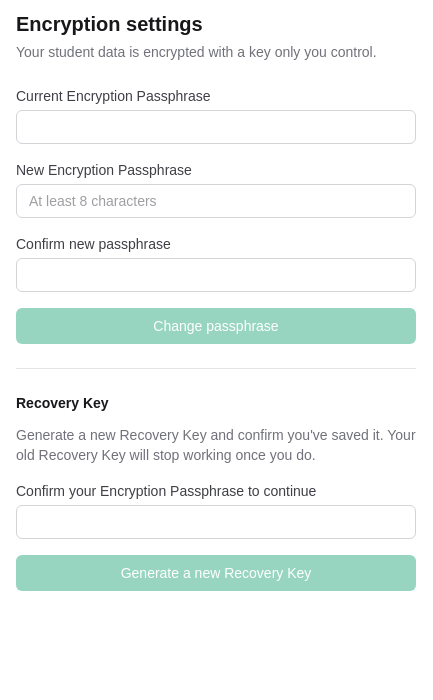
SettingsClient › a returning account (already set up) › shows an error and does not submit anything when the current passphrase is wrong
This screenshot has width=433, height=700.
In the password field labelled "Current Encryption Passphrase": {"x": 216, "y": 127} x1=16 y1=110 x2=416 y2=144, type "wrong-passphrase"
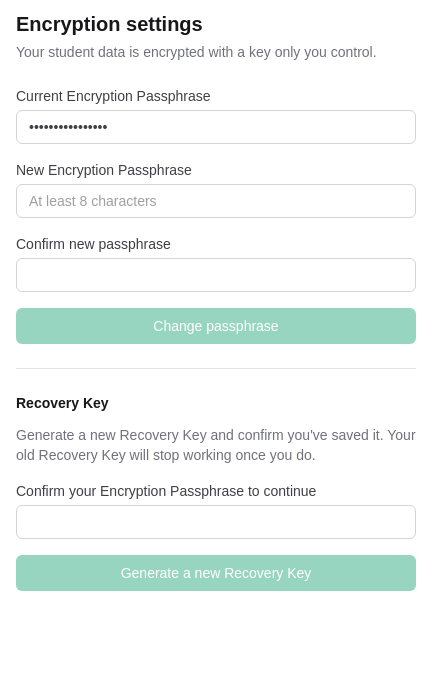
In the password field labelled "New Encryption Passphrase": {"x": 216, "y": 201} x1=16 y1=184 x2=416 y2=218, type "a-brand-new-passphrase"
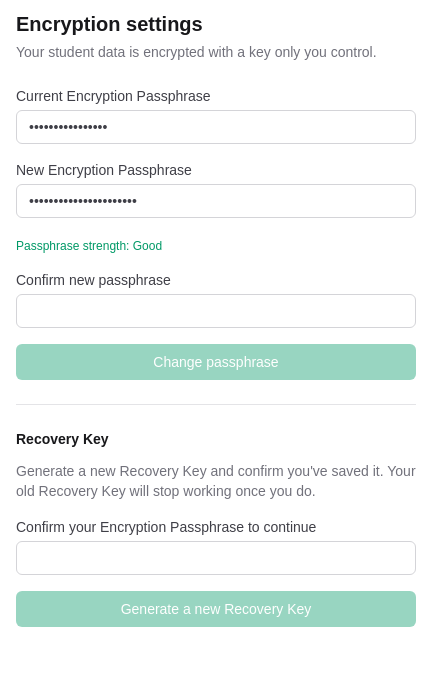
In the password field labelled "Confirm new passphrase": {"x": 216, "y": 311} x1=16 y1=294 x2=416 y2=328, type "a-brand-new-passphrase"
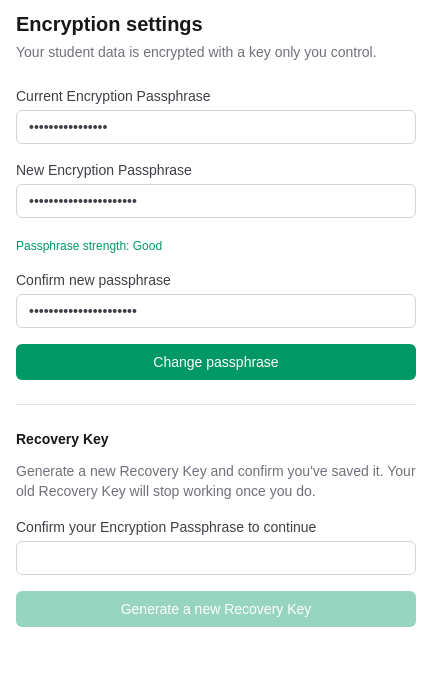
Click the button "Change passphrase": {"x": 216, "y": 362} x1=16 y1=344 x2=416 y2=380
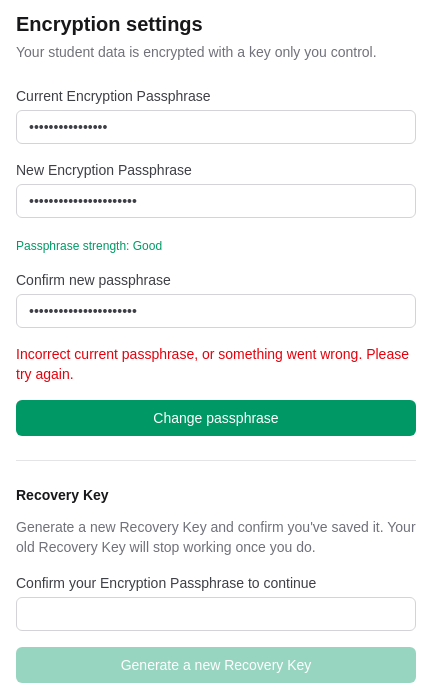
Expected: the text "Incorrect current passphrase" is shown, x1=16 y1=346 x2=409 y2=382
